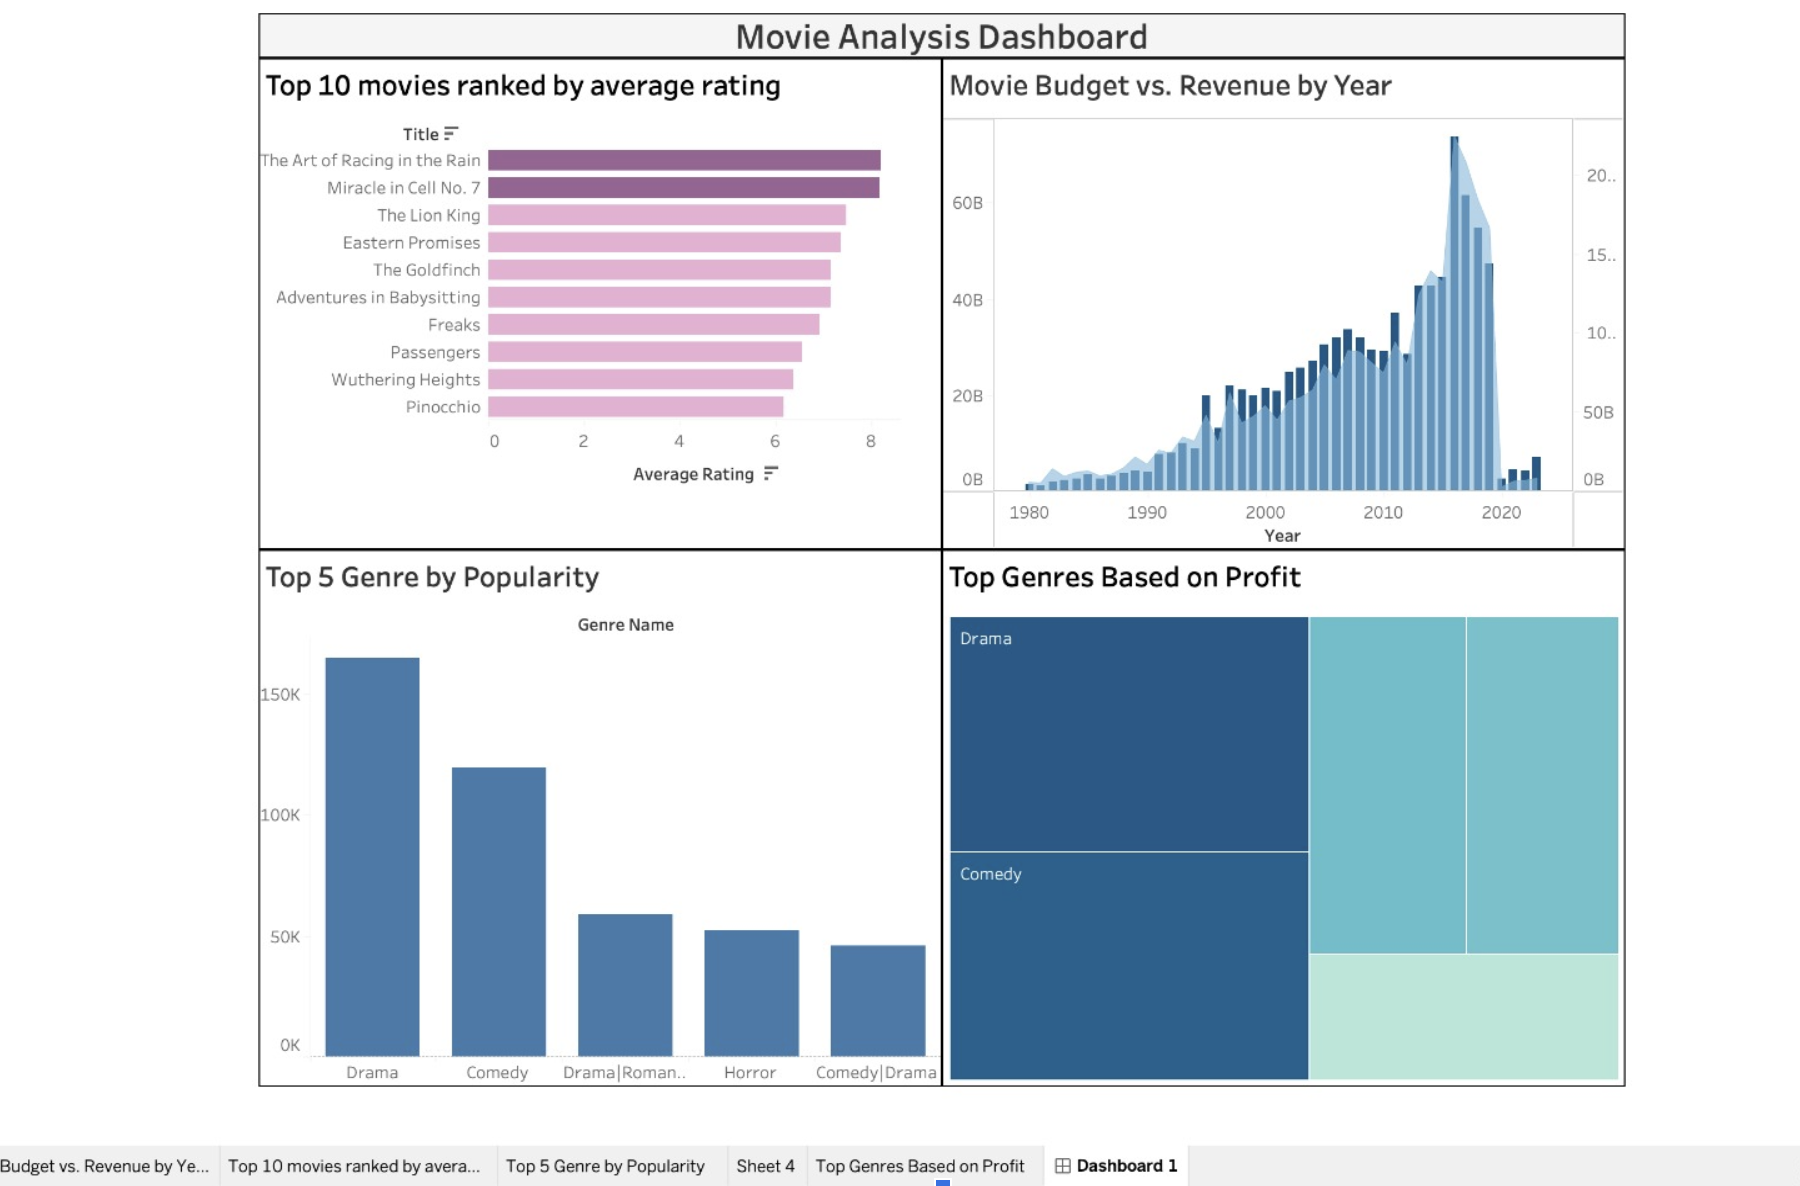

The dashboard page shown, as its layout file describes it:
{"tool":"tableau","page":{"name":"Dashboard 1","canvas":[1000,800],"ordinal":0},"visuals":[{"type":"title","box":[8,8,984,33]},{"type":"worksheet","title":"Top 10 movies ranked by average rating","mark":"Automatic","rows":["title"],"cols":["avg_rating"],"box":[8,41,492,359]},{"type":"worksheet","title":"Movie Budget vs. Revenue by Year","mark":"Circle","rows":["budget","revenue"],"cols":["year"],"box":[500,41,492,359]},{"type":"worksheet","title":"Top 5 Genre by Popularity ","mark":"Automatic","rows":["popularity"],"cols":["genre_name"],"box":[8,400,492,392]},{"type":"worksheet","title":"Top Genres Based on Profit","mark":"Automatic","box":[500,400,492,392]}]}

Visuals, with their boxes on the page's 1000x800 design canvas (x1, y1, x2, y2). These are canvas units, not pixel positions in the 1800x1186 screenshot, which may show the page scaled, cropped or inside an application window:
title: {"x1": 8, "y1": 8, "x2": 992, "y2": 41}
"Top 10 movies ranked by average rating" worksheet: {"x1": 8, "y1": 41, "x2": 500, "y2": 400}
"Movie Budget vs. Revenue by Year" worksheet (Circle marks): {"x1": 500, "y1": 41, "x2": 992, "y2": 400}
"Top 5 Genre by Popularity " worksheet: {"x1": 8, "y1": 400, "x2": 500, "y2": 792}
"Top Genres Based on Profit" worksheet: {"x1": 500, "y1": 400, "x2": 992, "y2": 792}
